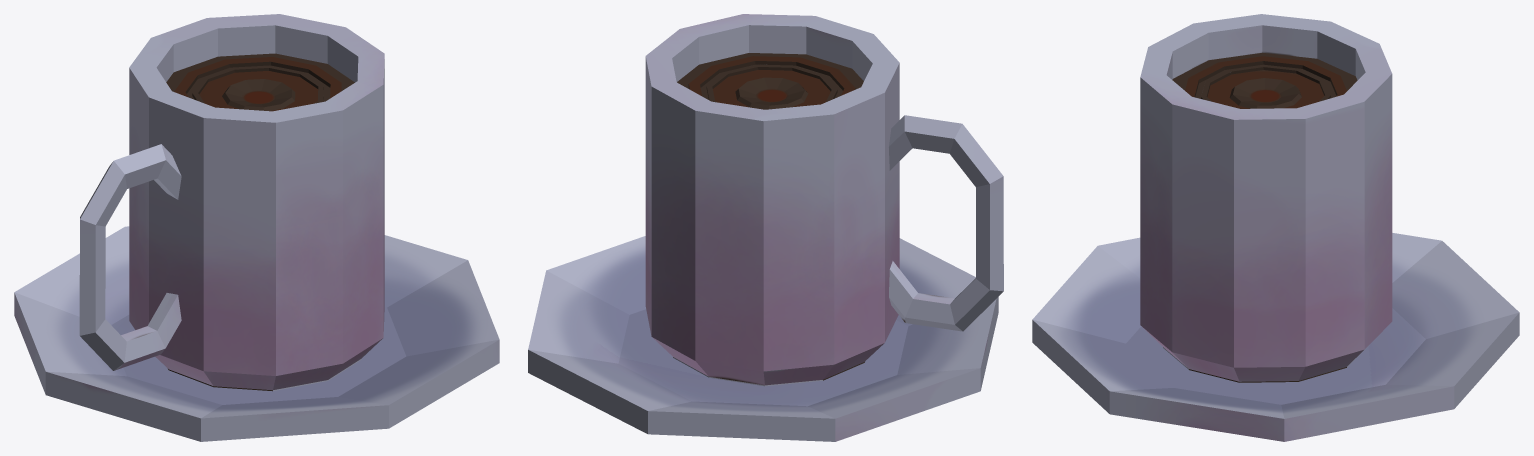
The model's file is mug.fbx.
3 views of the same model, side by side, from view 1: azimuth 30°, elevation 25°; view 2: azimuth 150°, elevation 25°; view 3: azimuth 270°, elevation 25° (orthographic). The views are drawn at different scales.
Visible parts, largest first — view 1: mug; view 2: mug; view 3: mug.
Boxes of the visible parts, x1,y1,x2,y2 form: mug: [14, 14, 499, 441]; mug: [528, 14, 1003, 441]; mug: [1032, 14, 1519, 441].
Size of the model in its own units: 22.5 by 15.61 by 22.5.
